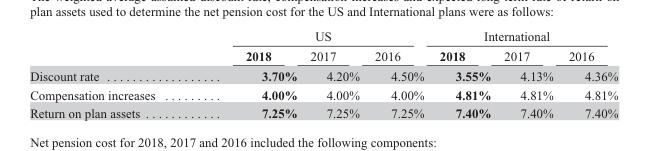table: (29, 29, 617, 119)
table column: (29, 29, 199, 119), (199, 29, 303, 119), (366, 29, 431, 119), (431, 29, 496, 119), (496, 29, 560, 119), (303, 29, 366, 119), (560, 29, 617, 119)
table column header: (29, 29, 617, 65)
table row: (29, 45, 617, 65), (29, 65, 617, 85), (29, 85, 617, 103), (29, 29, 617, 45), (29, 103, 617, 119)
table spanning cell: (199, 29, 431, 45), (431, 29, 617, 45)
